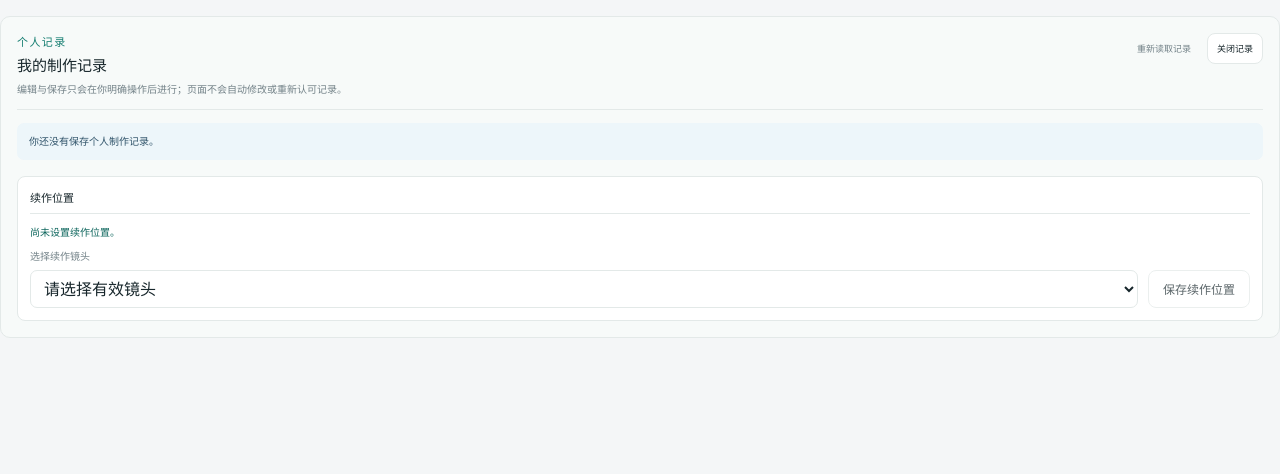
Scenario: personal production resume panel › sets a revision-zero resume target without exposing note rows or locating automatically
expect the text "你还没有保存个人制作记录。" is shown: met, box top-left (17, 123), bottom-right (1263, 160)
Select "镜头 1" in the dropdown labelled "选择续作镜头" at [584, 288], box top-left (30, 270), bottom-right (1138, 308)
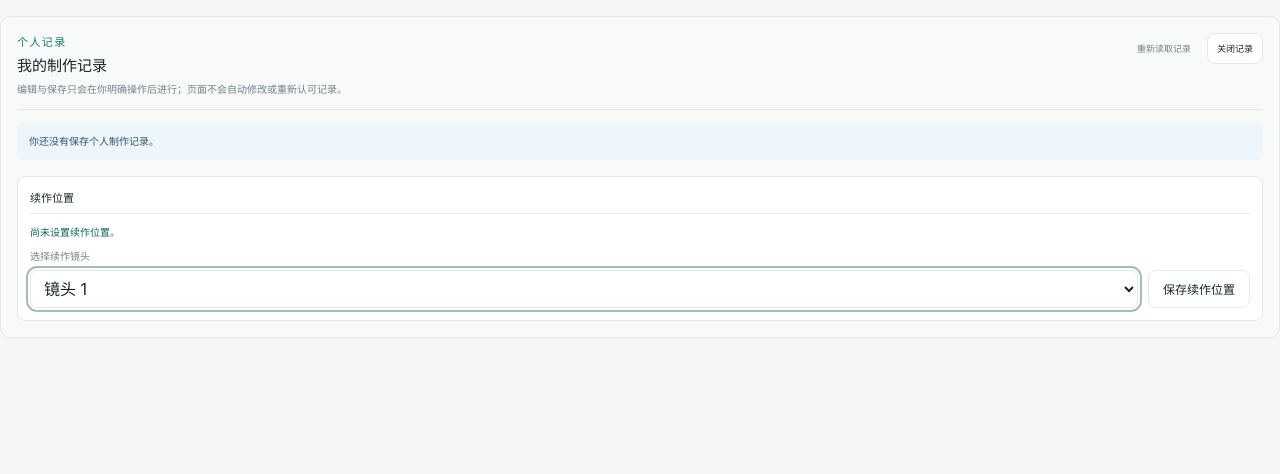
expect the button "保存续作位置" is enabled: met
Click the button "保存续作位置".
click(1199, 288)  # box top-left (1148, 270), bottom-right (1250, 308)
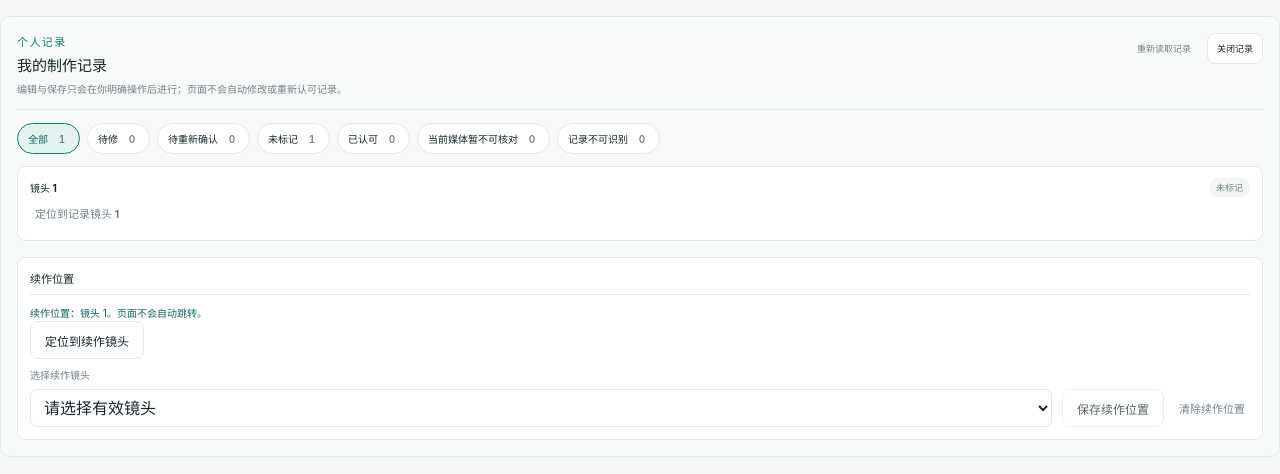
expect the text "续作位置：镜头 1。页面不会自动跳转。" is shown: met, box top-left (30, 294), bottom-right (1250, 321)
